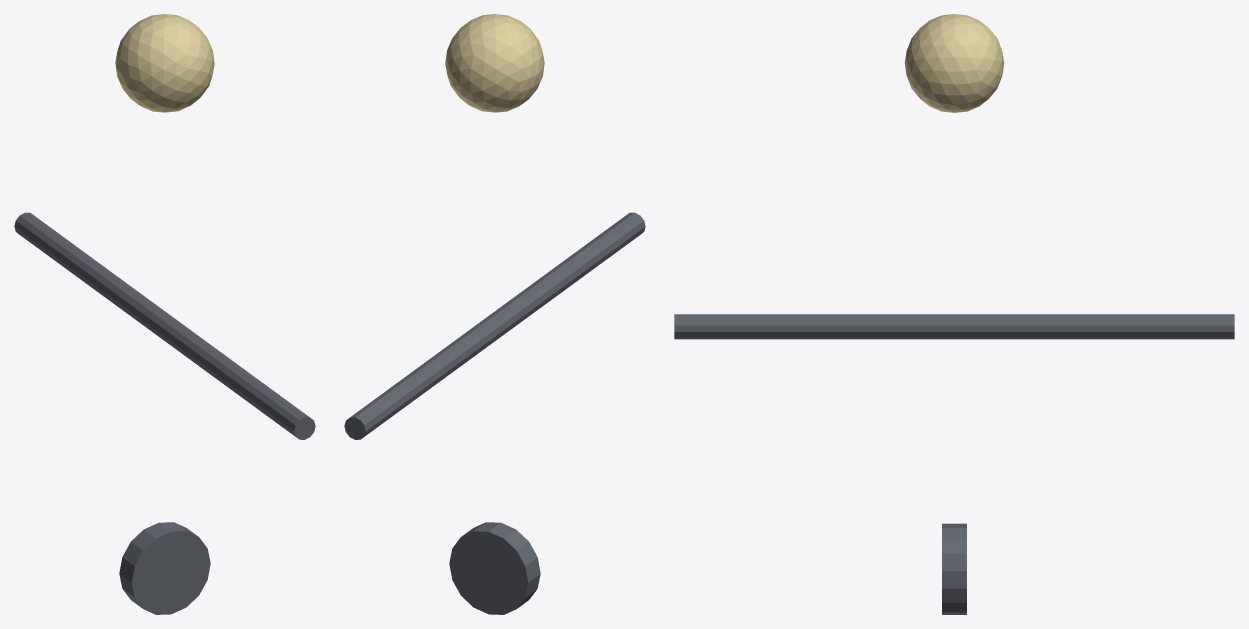
The model's file is lamp_post.glb.
3 views of the same model, side by side, from view 1: azimuth 30°, elevation 25°; view 2: azimuth 150°, elevation 25°; view 3: azimuth 270°, elevation 25° (orthographic).
Parts seen in each view (by area): view 1: pole, lamp, base; view 2: pole, lamp, base; view 3: pole, lamp, base.
Part boxes in pixels (x1=…): pole: x1=14, y1=212, x2=315, y2=439; lamp: x1=115, y1=14, x2=214, y2=112; base: x1=119, y1=522, x2=210, y2=614; pole: x1=344, y1=212, x2=645, y2=439; lamp: x1=445, y1=14, x2=544, y2=112; base: x1=449, y1=522, x2=540, y2=614; pole: x1=674, y1=314, x2=1234, y2=339; lamp: x1=904, y1=14, x2=1004, y2=112; base: x1=942, y1=523, x2=966, y2=614.
Size of the model in its own units: 0.48 by 3.15 by 2.7.
